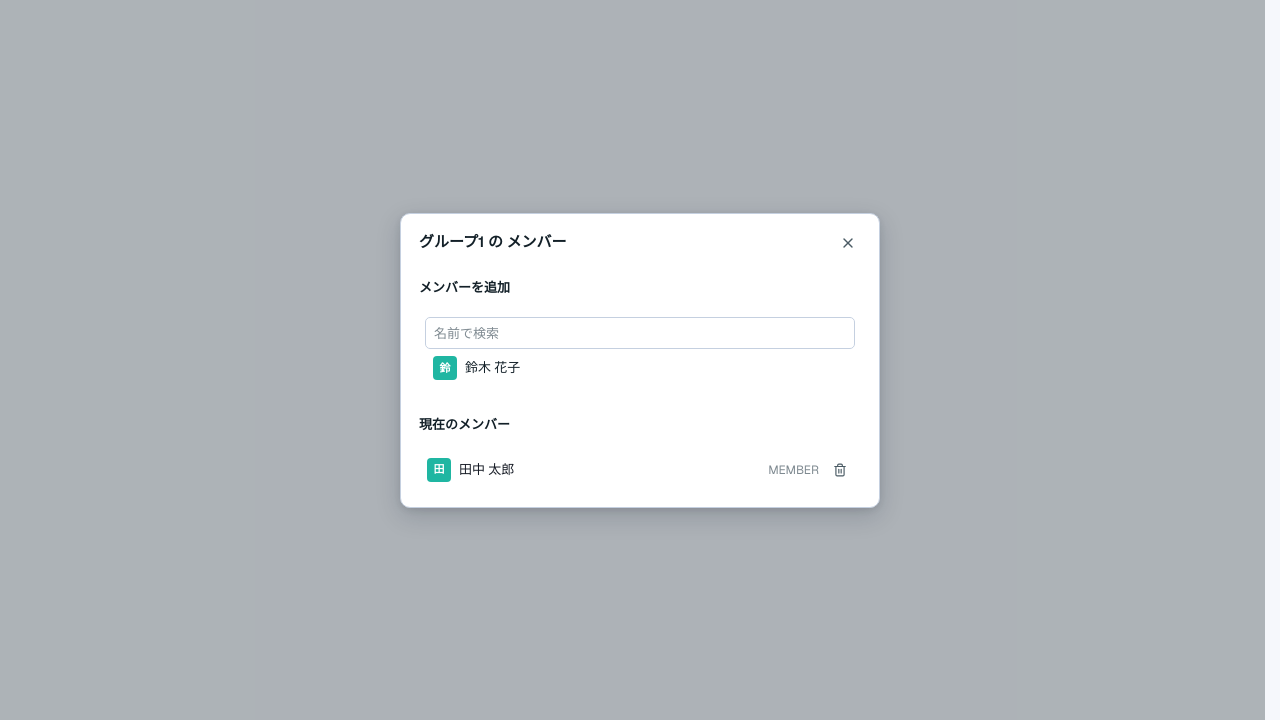
DeskMembershipScopeModal（dsk-0309・共通メンバー管理モーダル） › 削除確認ダイアログでキャンセルすると removeMembership を呼ばないこと
Click the button named "田中 太郎 を削除" at (840, 470), box [827,456,853,482]
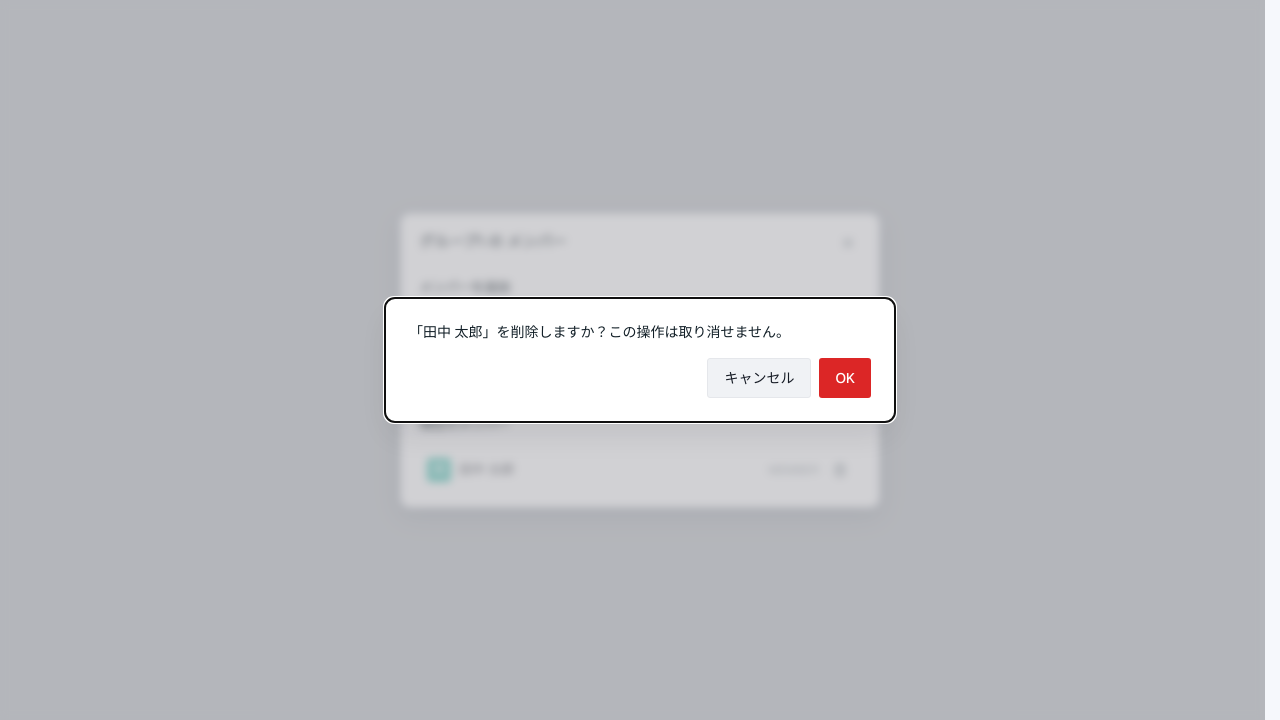
Click the button "キャンセル" at (760, 378), box [708,358,812,398]
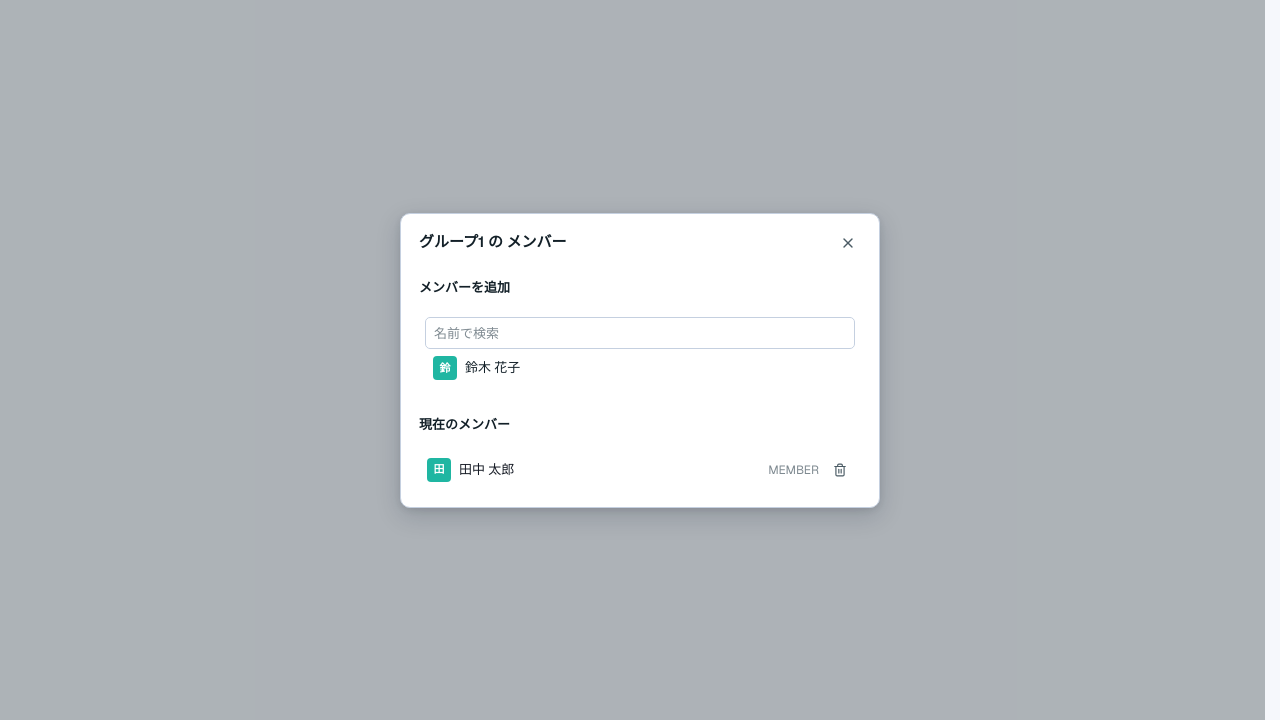
Now the dialog "「田中 太郎」を削除しますか？この操作は取り消せません。 キャンセル OK" is gone
